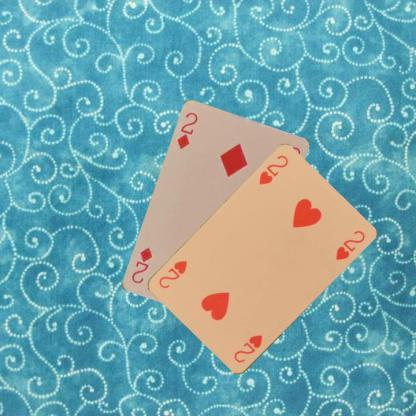2d: (174, 110, 200, 151)
2h: (256, 152, 289, 186), (231, 332, 264, 365)
